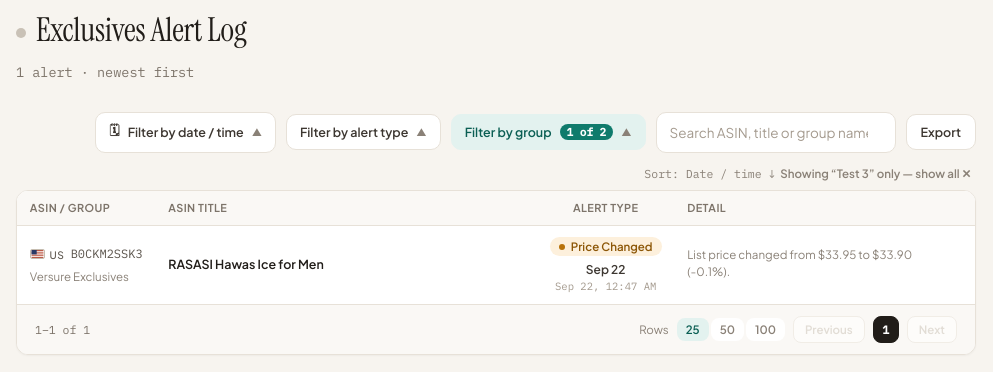
Test: ExclusivesLogPage › shows the filter already ticked when the Groups screen chose it
Click the button "Filter by group 1 of 2 ▲".
click(548, 132)  # box [451, 114, 646, 150]
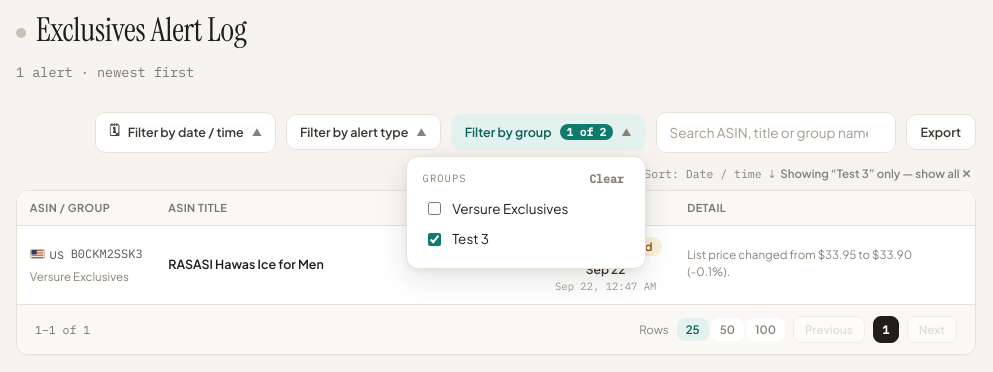
Result: the checkbox labelled "Test 3" is checked at [428, 233, 441, 246]
Result: the checkbox labelled "Versure Exclusives" is not checked at [428, 202, 441, 215]
